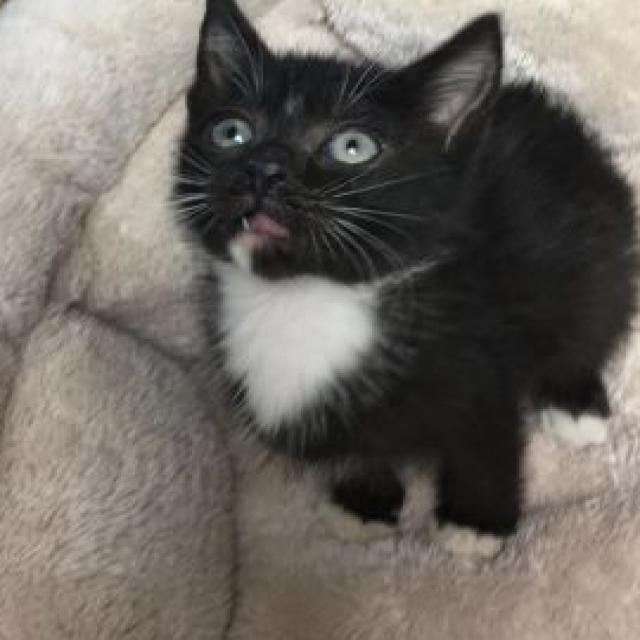Tuxedo: (170, 0, 640, 566)
